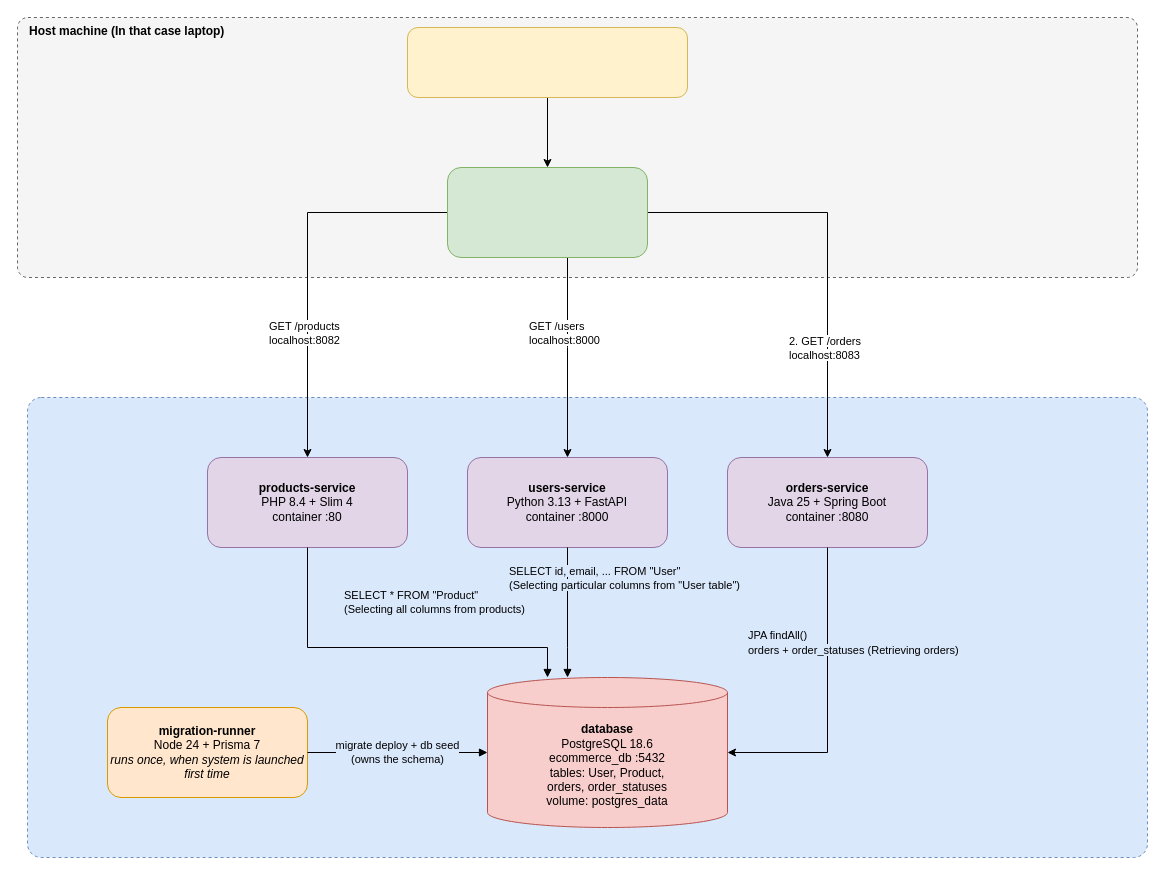
This 1165x875 diagram has some shape labels left out. The centre of each missing label's shape, as x and y in pixels:
"Browser main.js runs here" belongs at pixel 547 62.
"frontend Node 24 + Vite container :5173 serves files only" belongs at pixel 547 212.
